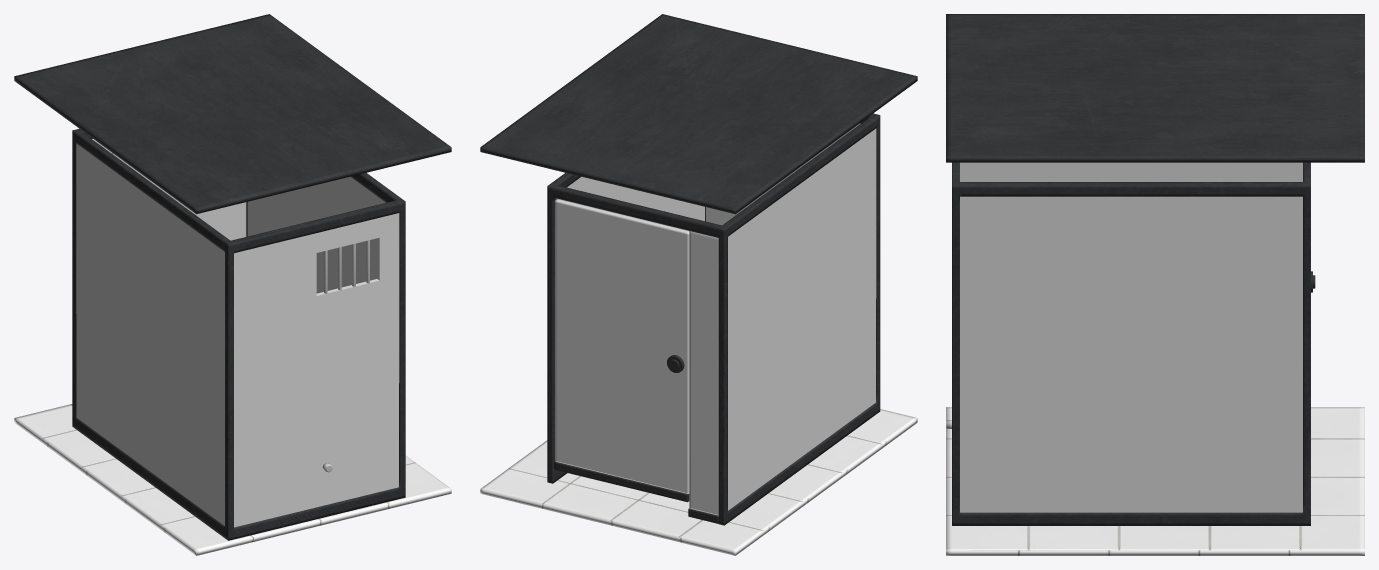
File: toilet_3.fbx
3 renders of one model, left to right at view 1: azimuth 30°, elevation 25°; view 2: azimuth 150°, elevation 25°; view 3: azimuth 270°, elevation 25°, orthographic. The views are drawn at different scales.
Parts seen in each view (by area): view 1: floor.001, Mwall_up, Rwall_up, Mwall_down, edges, Rwall_down, floor, Lwall_up, 门大; view 2: floor.001, 门大, Rwall_up, floor, Rwall_down, edges, 门小, Lwall_up, Mwall_up; view 3: Lwall_up, floor.001, Lwall_down, floor, edges, Rwall_up.
Boxes of the visible parts, x1=… form: floor.001: x1=14, y1=14, x2=451, y2=214; Mwall_up: x1=234, y1=213, x2=399, y2=423; Rwall_up: x1=76, y1=143, x2=224, y2=422; Mwall_down: x1=234, y1=383, x2=398, y2=527; edges: x1=72, y1=128, x2=405, y2=540; Rwall_down: x1=76, y1=314, x2=224, y2=525; floor: x1=14, y1=404, x2=451, y2=555; Lwall_up: x1=247, y1=176, x2=385, y2=293; 门大: x1=112, y1=152, x2=246, y2=240; floor.001: x1=480, y1=14, x2=917, y2=214; 门大: x1=554, y1=199, x2=689, y2=502; Rwall_up: x1=728, y1=128, x2=876, y2=406; floor: x1=480, y1=409, x2=917, y2=555; Rwall_down: x1=728, y1=299, x2=875, y2=510; edges: x1=547, y1=113, x2=880, y2=525; 门小: x1=688, y1=231, x2=718, y2=523; Lwall_up: x1=556, y1=176, x2=704, y2=230; Mwall_up: x1=706, y1=123, x2=860, y2=225; Lwall_up: x1=960, y1=196, x2=1302, y2=392; floor.001: x1=946, y1=14, x2=1364, y2=162; Lwall_down: x1=960, y1=393, x2=1302, y2=512; floor: x1=946, y1=407, x2=1364, y2=555; edges: x1=952, y1=162, x2=1310, y2=525; Rwall_up: x1=960, y1=162, x2=1302, y2=181.
Size of the model in its own units: 358 by 465 by 442.
